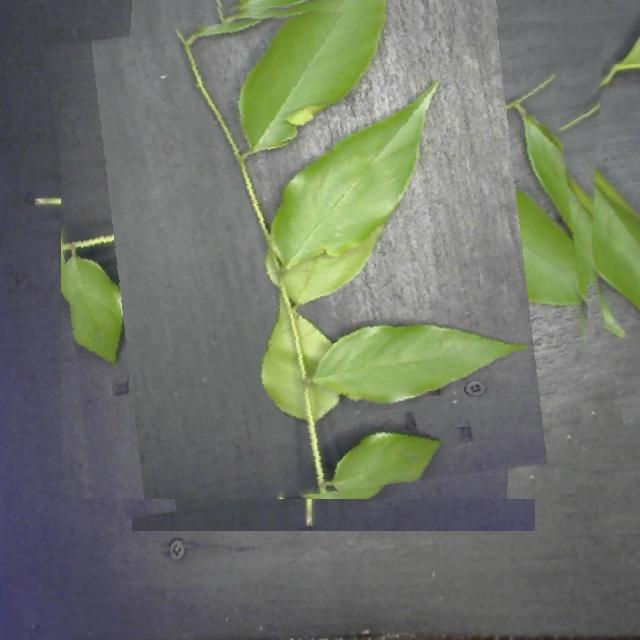biodegradable: (61, 0, 605, 499)
